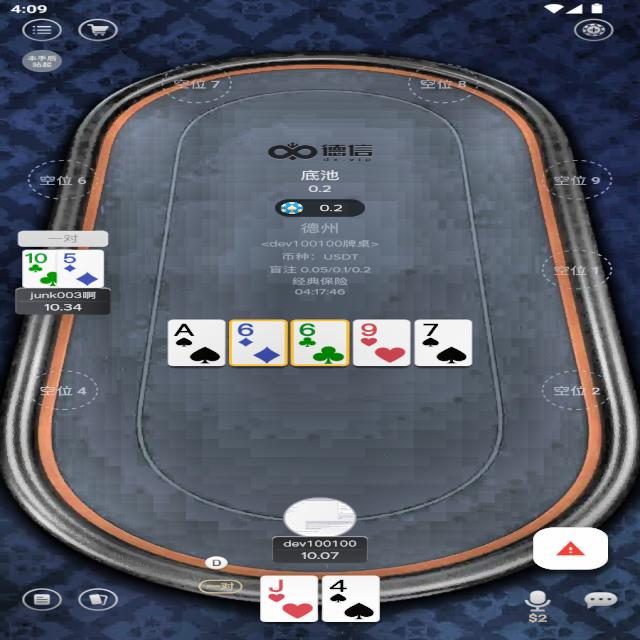10m: (24, 251, 48, 265)
4s: (327, 578, 350, 594)
5f: (59, 251, 78, 265)
6f: (234, 322, 257, 338)
6m: (296, 322, 318, 338)
7s: (417, 321, 443, 337)
9h: (359, 322, 380, 337)
As: (172, 321, 196, 338)
Jh: (266, 577, 287, 594)
